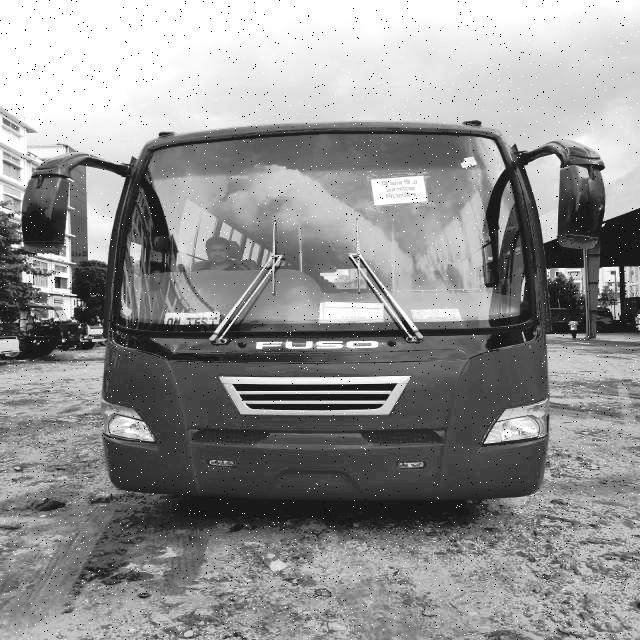Bus: (9, 96, 639, 528)
